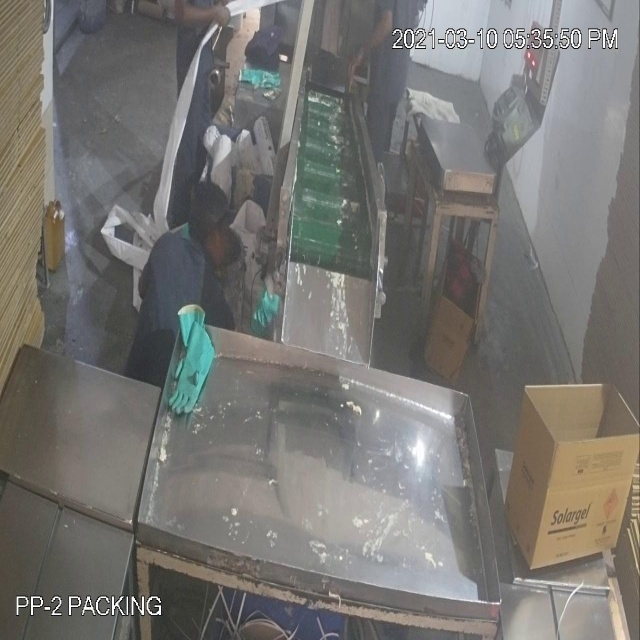Sin_guantes: (341, 12, 400, 101)
